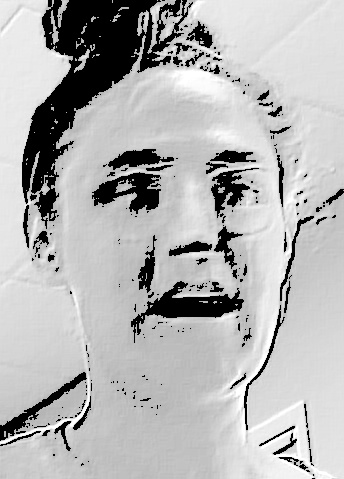nose_M_C: (156, 202, 221, 274)
